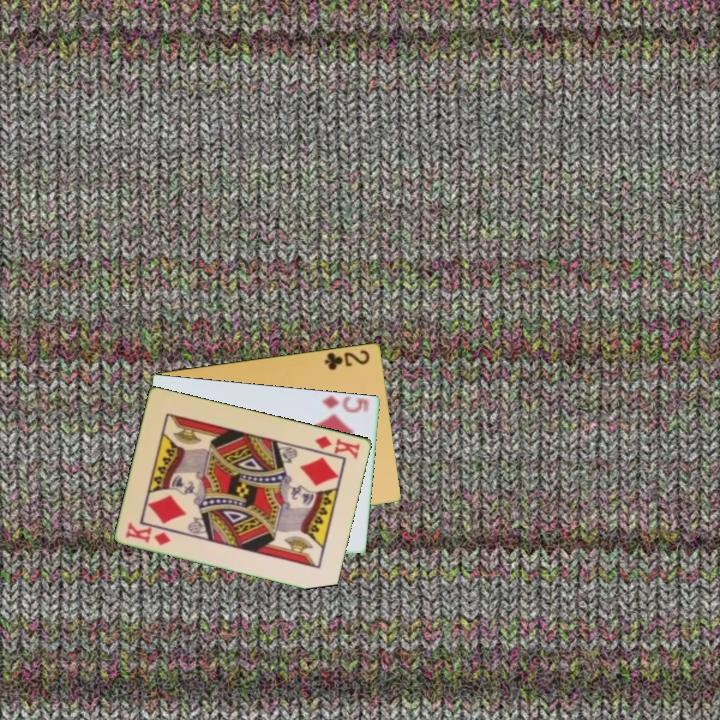2c: (321, 346, 373, 373)
5d: (319, 392, 373, 415)
Kd: (312, 432, 363, 462), (122, 519, 174, 548)
